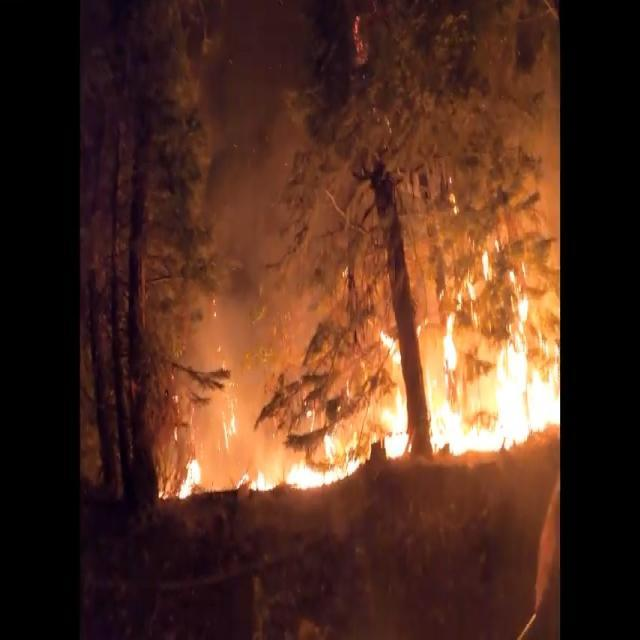Fire: (154, 225, 560, 505)
